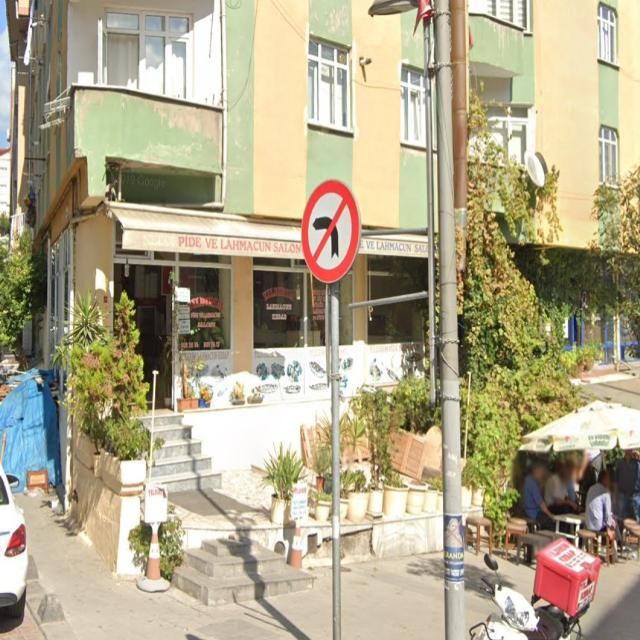soladonulmez: (302, 180, 359, 283)
